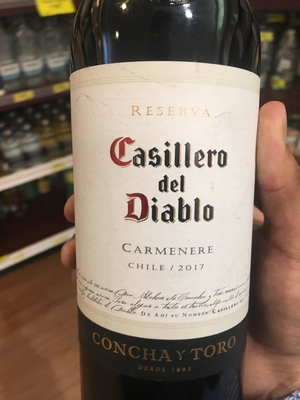casillero del diablo carmenere: (70, 6, 261, 400)
